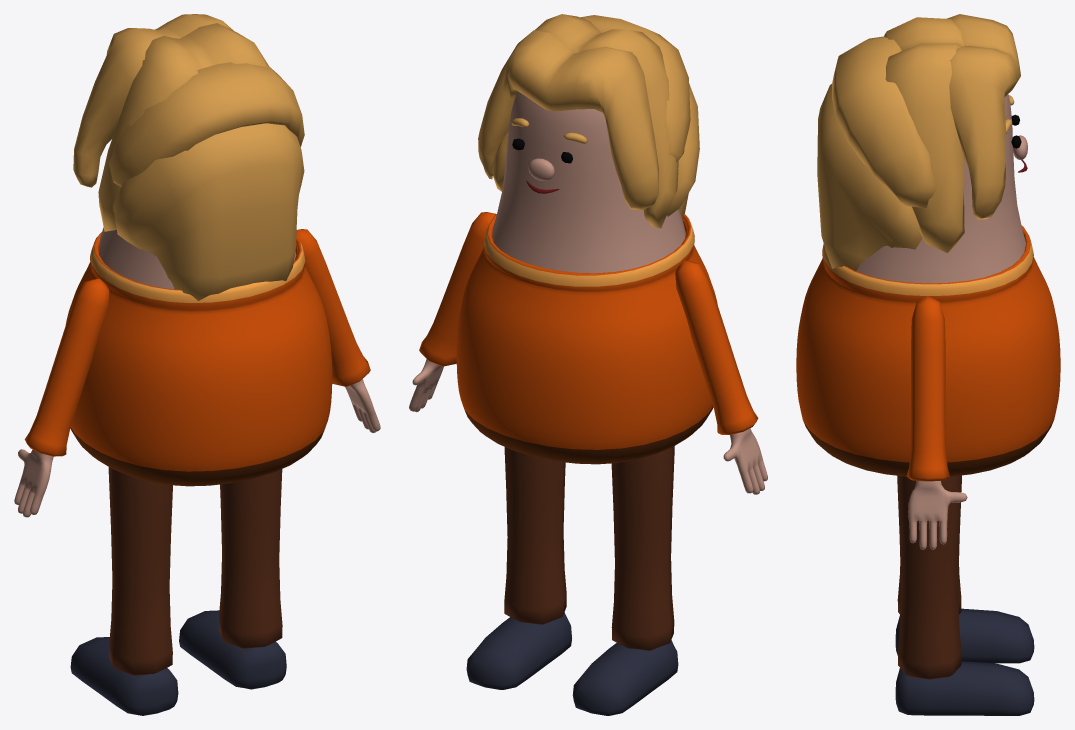
Rendered from Customer3.fbx.
3 views of the same model, side by side, from view 1: azimuth 30°, elevation 25°; view 2: azimuth 150°, elevation 25°; view 3: azimuth 270°, elevation 25° (orthographic). The views are drawn at different scales.
Visible parts, largest first — view 1: Customer_3; view 2: Customer_3; view 3: Customer_3.
Boxes of the visible parts, x1=… form: Customer_3: x1=14, y1=14, x2=380, y2=715; Customer_3: x1=409, y1=14, x2=767, y2=715; Customer_3: x1=796, y1=14, x2=1060, y2=715.
Bounding box in the file's own units: 232 × 151 × 408.
